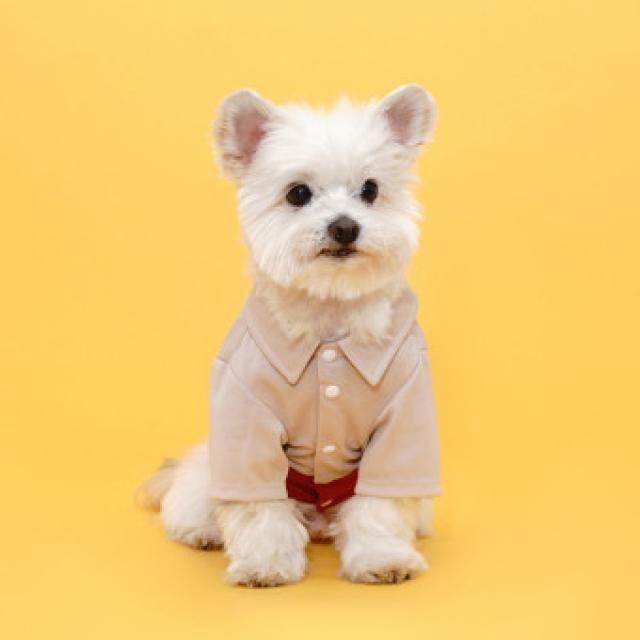cloth: (212, 288, 440, 511)
